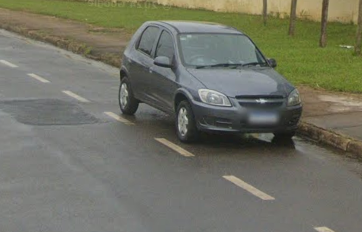car: (118, 17, 304, 150)
